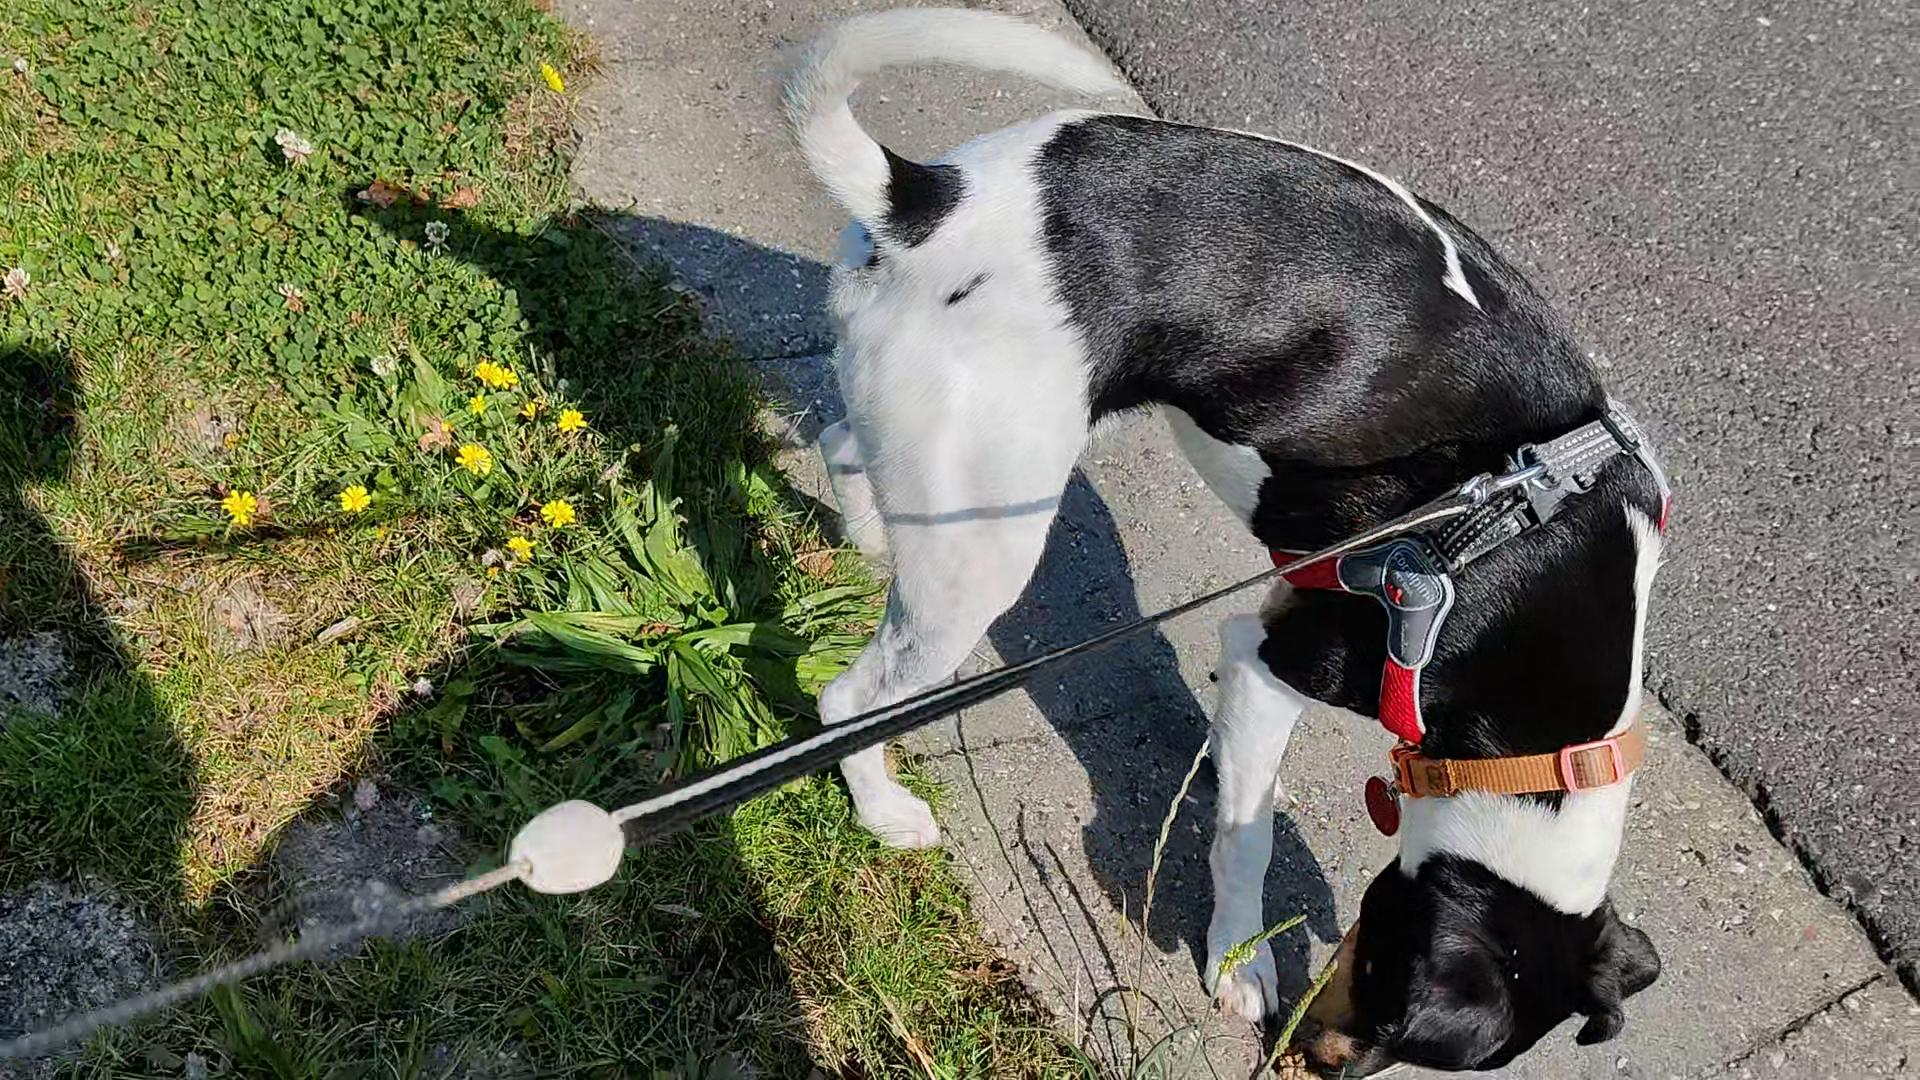Dog: (745, 0, 1702, 1080)
